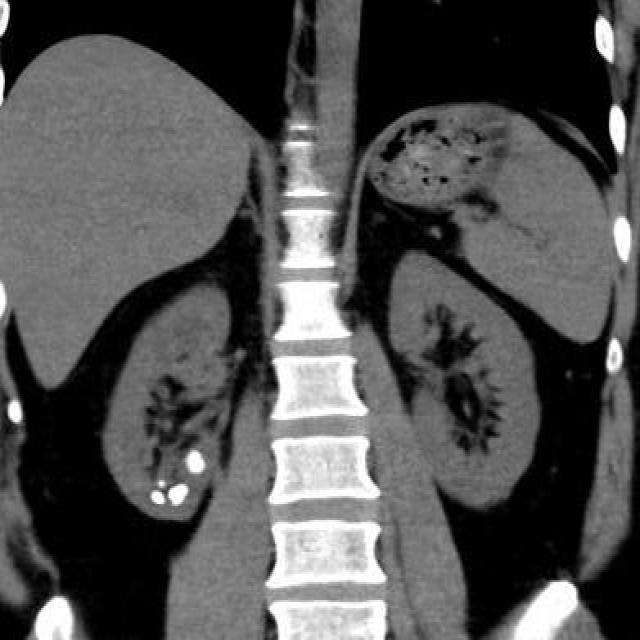Tas_Var: (166, 480, 189, 510), (187, 446, 206, 476), (150, 489, 166, 507), (155, 475, 167, 489)
